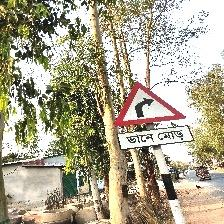Right-turn: (112, 82, 192, 152)
